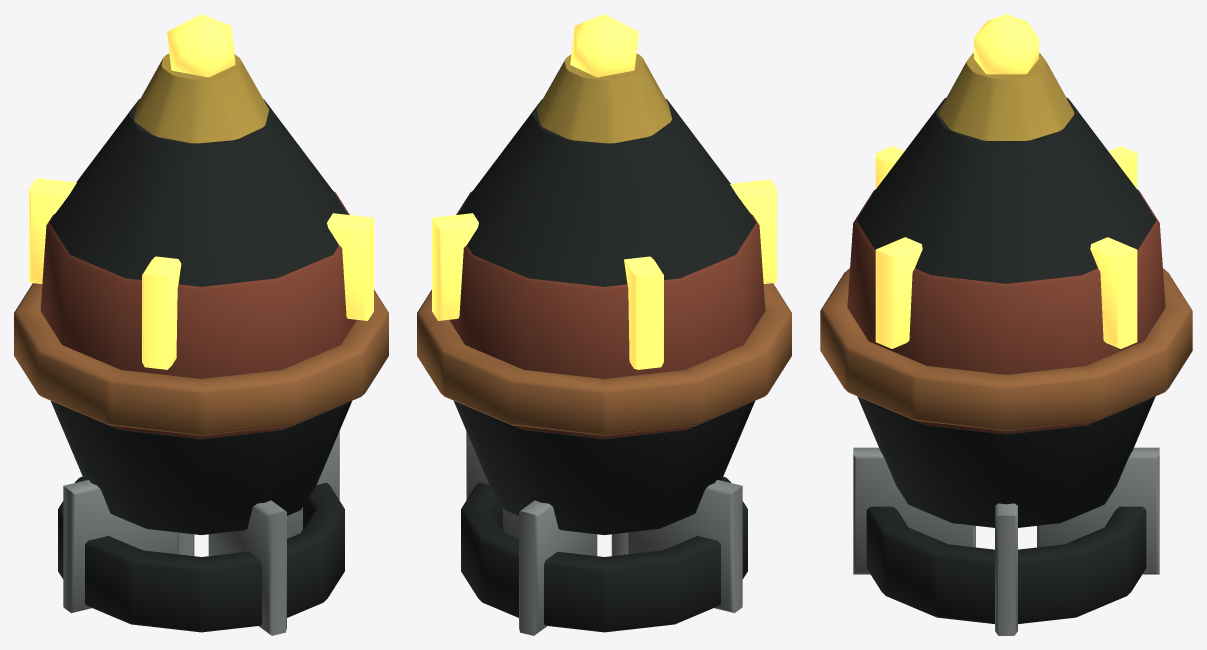
File: act_slag_mortar_shell.glb
3 views of the same model, side by side, from view 1: azimuth 30°, elevation 25°; view 2: azimuth 150°, elevation 25°; view 3: azimuth 270°, elevation 25° (orthographic).
Parts seen in each view (by area): view 1: act_slag_mortar_shell_mesh; view 2: act_slag_mortar_shell_mesh; view 3: act_slag_mortar_shell_mesh.
Part boxes in pixels (x1,y1,x2,y2): act_slag_mortar_shell_mesh: [14, 14, 388, 635]; act_slag_mortar_shell_mesh: [417, 14, 791, 635]; act_slag_mortar_shell_mesh: [820, 14, 1192, 635].
Size of the model in its own units: 0.73 by 1.21 by 0.73.
